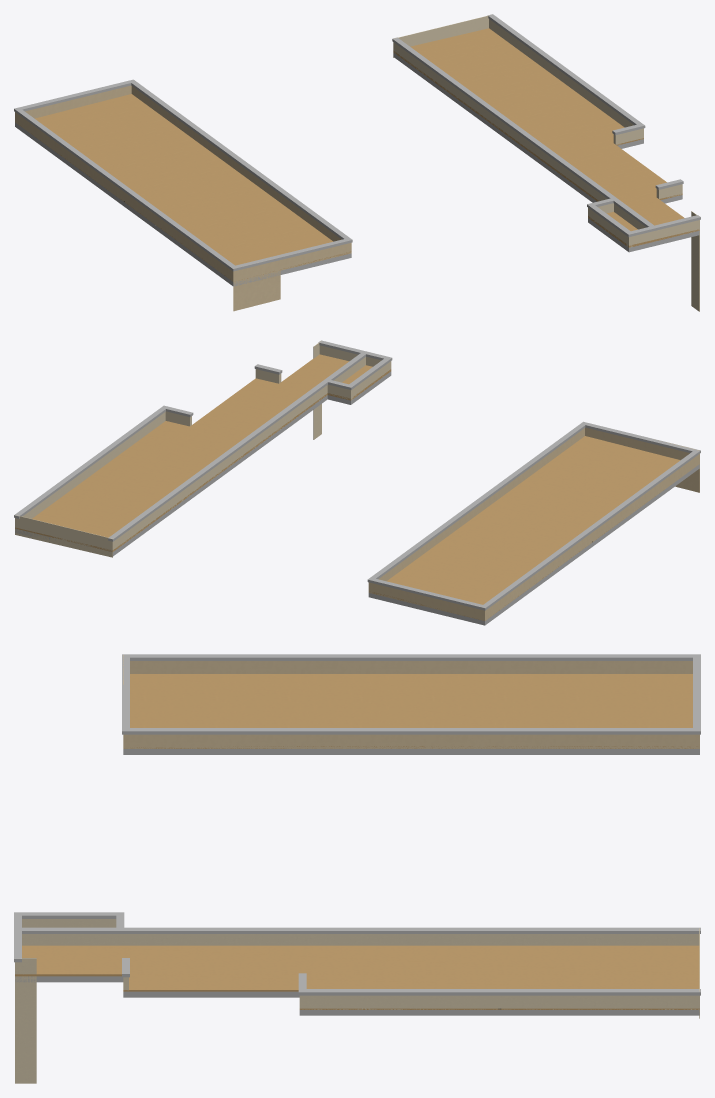
File: roof-bundle-textile-arcade.glb
3 views of the same model, one above another, from view 1: azimuth 30°, elevation 25°; view 2: azimuth 150°, elevation 25°; view 3: azimuth 270°, elevation 25° (orthographic). The views are drawn at different scales.
Parts seen in each view (by area): view 1: bz06_faded_ochre-receive, ph_bz04_stone_trim_sandstone-cast, bz06_cream_plaster-cast, bz06_pale_lime-cast; view 2: bz06_faded_ochre-receive, ph_bz04_stone_trim_sandstone-cast, bz06_pale_lime-cast, bz06_cream_plaster-cast; view 3: bz06_faded_ochre-receive, ph_bz04_stone_trim_sandstone-cast, bz06_pale_lime-cast, bz06_cream_plaster-cast.
Boxes of the visible parts, x1,y1,x2,y2 form: bz06_faded_ochre-receive: (20,28,699,279); ph_bz04_stone_trim_sandstone-cast: (14,14,700,286); bz06_cream_plaster-cast: (15,85,351,311); bz06_pale_lime-cast: (393,15,699,311); bz06_faded_ochre-receive: (15,354,680,619); ph_bz04_stone_trim_sandstone-cast: (14,340,700,625); bz06_pale_lime-cast: (15,341,391,557); bz06_cream_plaster-cast: (368,427,699,620); bz06_faded_ochre-receive: (15,674,699,1009); ph_bz04_stone_trim_sandstone-cast: (14,654,700,1015); bz06_pale_lime-cast: (15,919,699,1083); bz06_cream_plaster-cast: (123,655,699,748).
Bounding box in the file's own units: 20.26 × 4.73 × 19.06.
5 materials, 4 textured.
